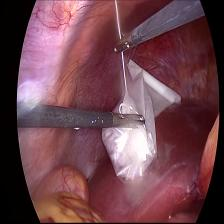Grasper: (111, 23, 135, 53), (114, 110, 146, 131)
Specimen Bag: (100, 57, 181, 181)
